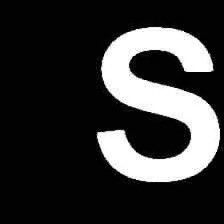LTR_S: (84, 21, 222, 192)
